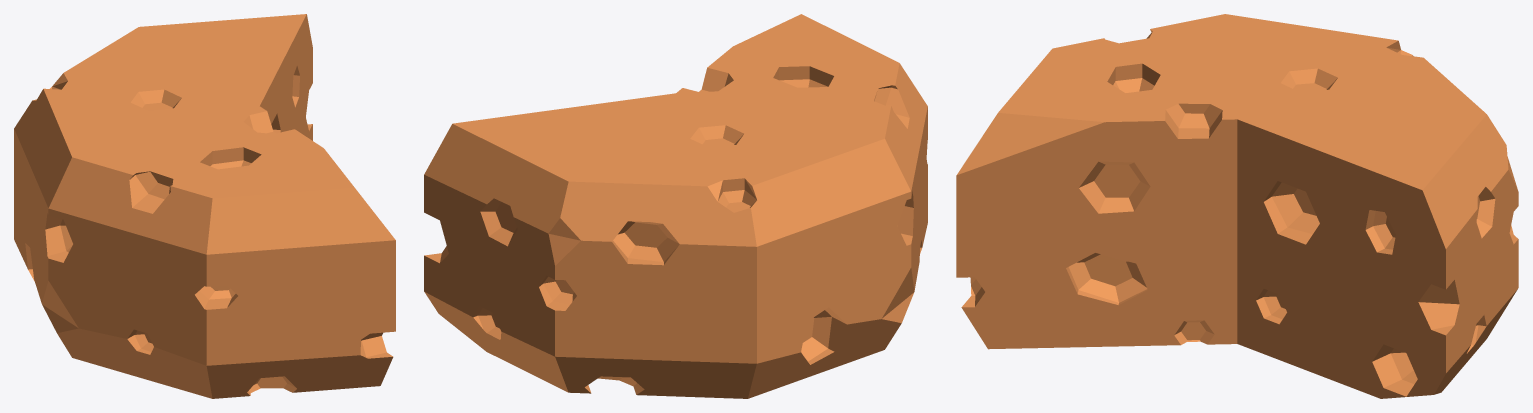
Rendered from Cheese.fbx.
3 views of the same model, side by side, from view 1: azimuth 30°, elevation 25°; view 2: azimuth 150°, elevation 25°; view 3: azimuth 270°, elevation 25° (orthographic). The views are drawn at different scales.
Parts seen in each view (by area): view 1: SM_Cheese; view 2: SM_Cheese; view 3: SM_Cheese.
Part boxes in pixels (x1,y1,x2,y2): SM_Cheese: [14, 14, 395, 398]; SM_Cheese: [424, 14, 927, 398]; SM_Cheese: [956, 14, 1518, 398].
Size of the model in its own units: 22.06 by 11.63 by 26.38.
Materials: 1 (1 with a texture image).
